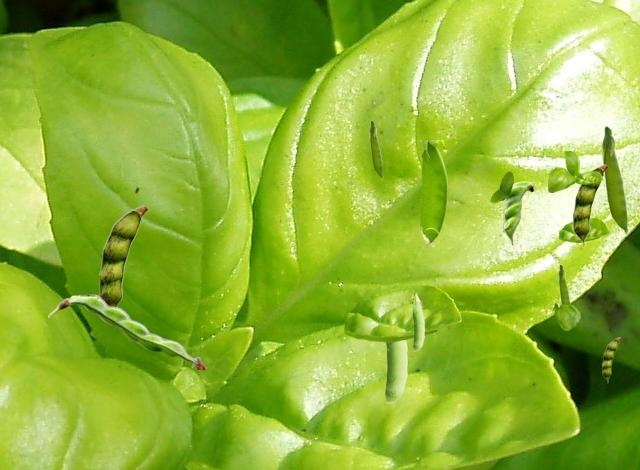pea: (48, 294, 206, 368), (99, 205, 147, 305), (601, 125, 628, 235), (573, 164, 607, 246), (420, 140, 446, 246), (384, 287, 406, 402), (502, 181, 535, 244), (602, 337, 620, 382), (369, 120, 382, 179), (410, 291, 423, 350), (558, 264, 570, 303)
